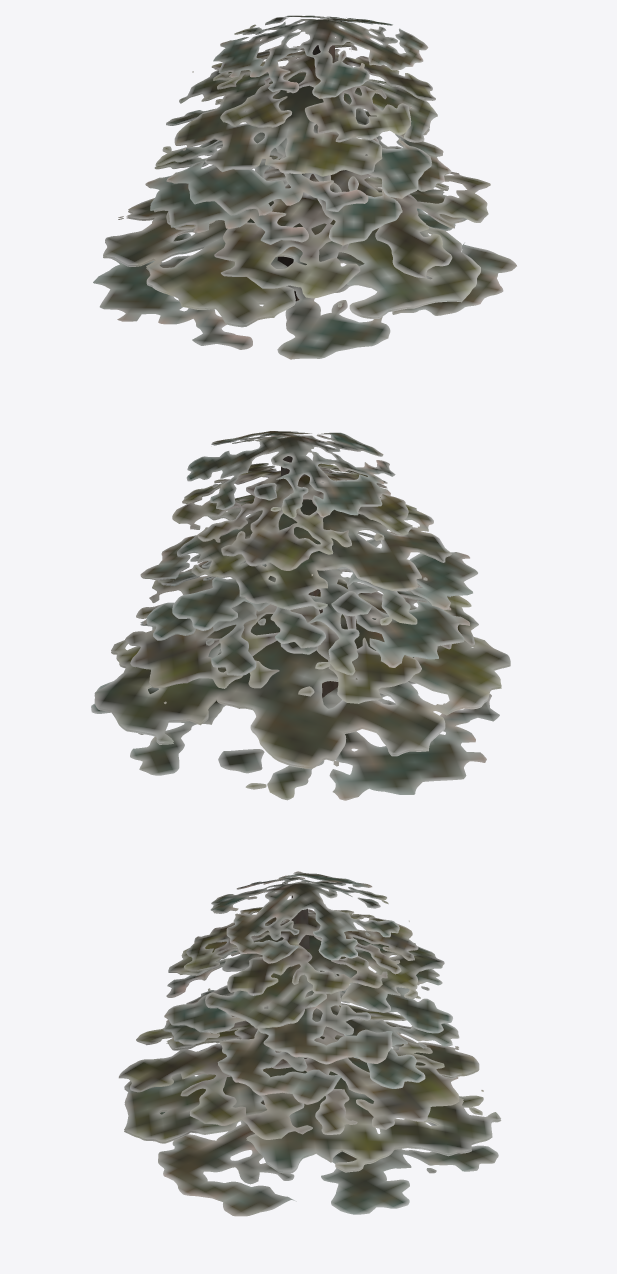
Rendered from bz_tree_01.fbx.
3 renders of one model, top to bottom at view 1: azimuth 30°, elevation 25°; view 2: azimuth 150°, elevation 25°; view 3: azimuth 270°, elevation 25°, orthographic. The views are drawn at different scales.
Parts seen in each view (by area): view 1: bz_tree_01; view 2: bz_tree_01; view 3: bz_tree_01.
Part boxes in pixels (box(x1,y1,x2,y2)): bz_tree_01: box(93, 15, 516, 359); bz_tree_01: box(91, 431, 510, 800); bz_tree_01: box(118, 871, 501, 1216).
Size of the model in its own units: 4.24 by 2.11 by 4.24.
